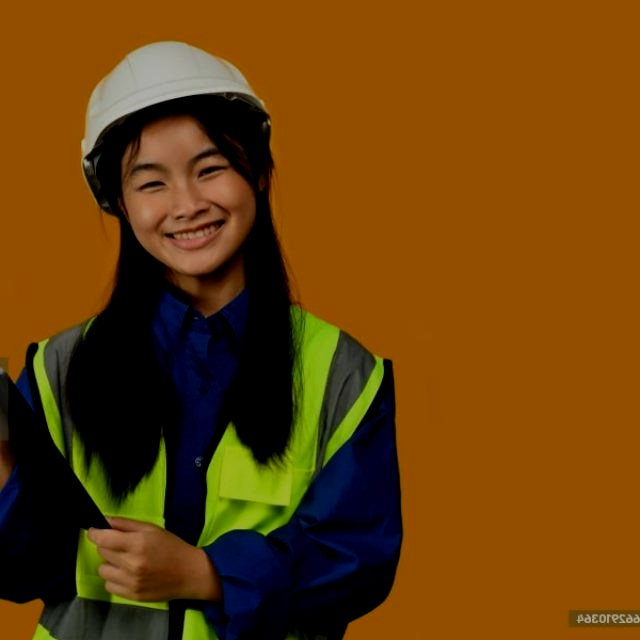Con_Casco: (83, 39, 276, 277)
Con_Chaleco: (24, 295, 382, 640)
